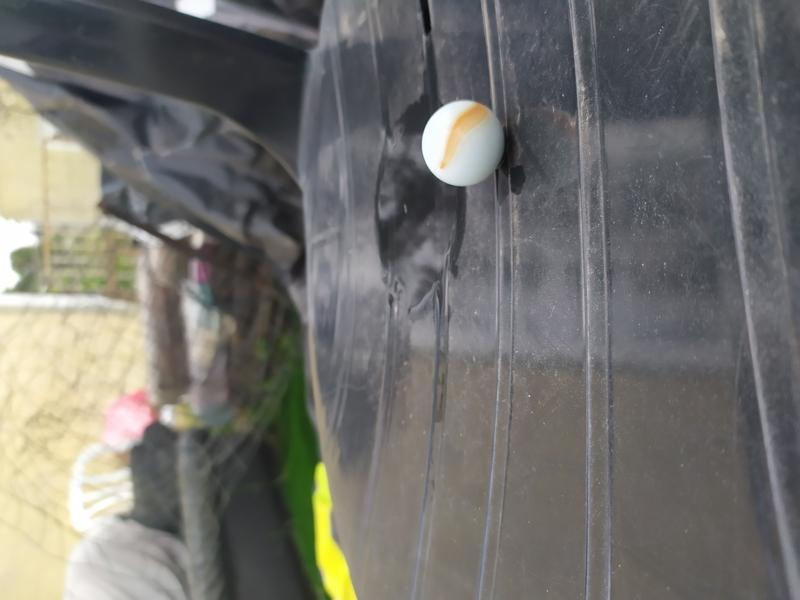Warning: (418, 97, 508, 190)
